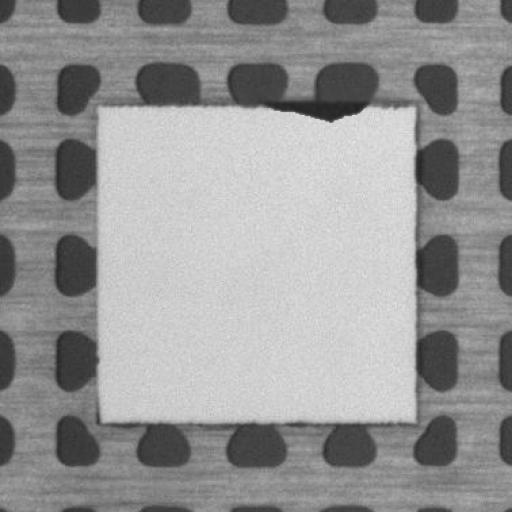DIE_BROKEN: (263, 96, 368, 120)
